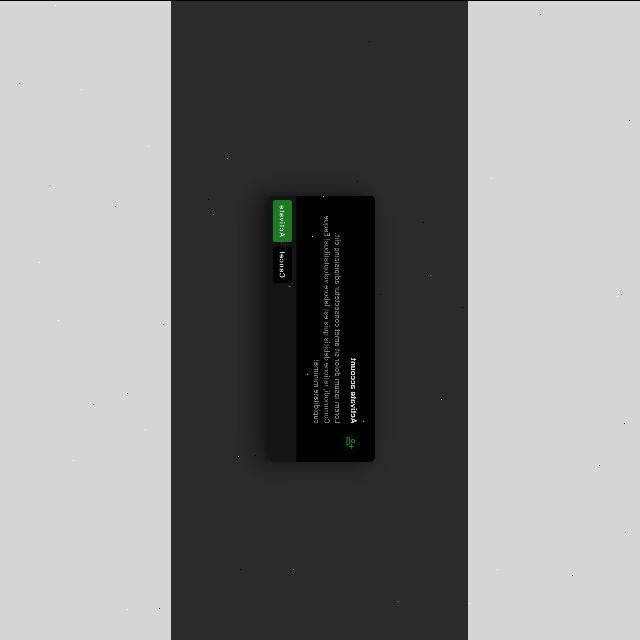QLabel: (312, 214, 343, 424), (350, 357, 358, 423), (278, 204, 286, 236), (278, 250, 286, 278)
VBtn: (273, 198, 293, 242), (274, 245, 292, 283)
VDialog: (266, 194, 376, 462)
VIcon: (341, 431, 362, 453)
